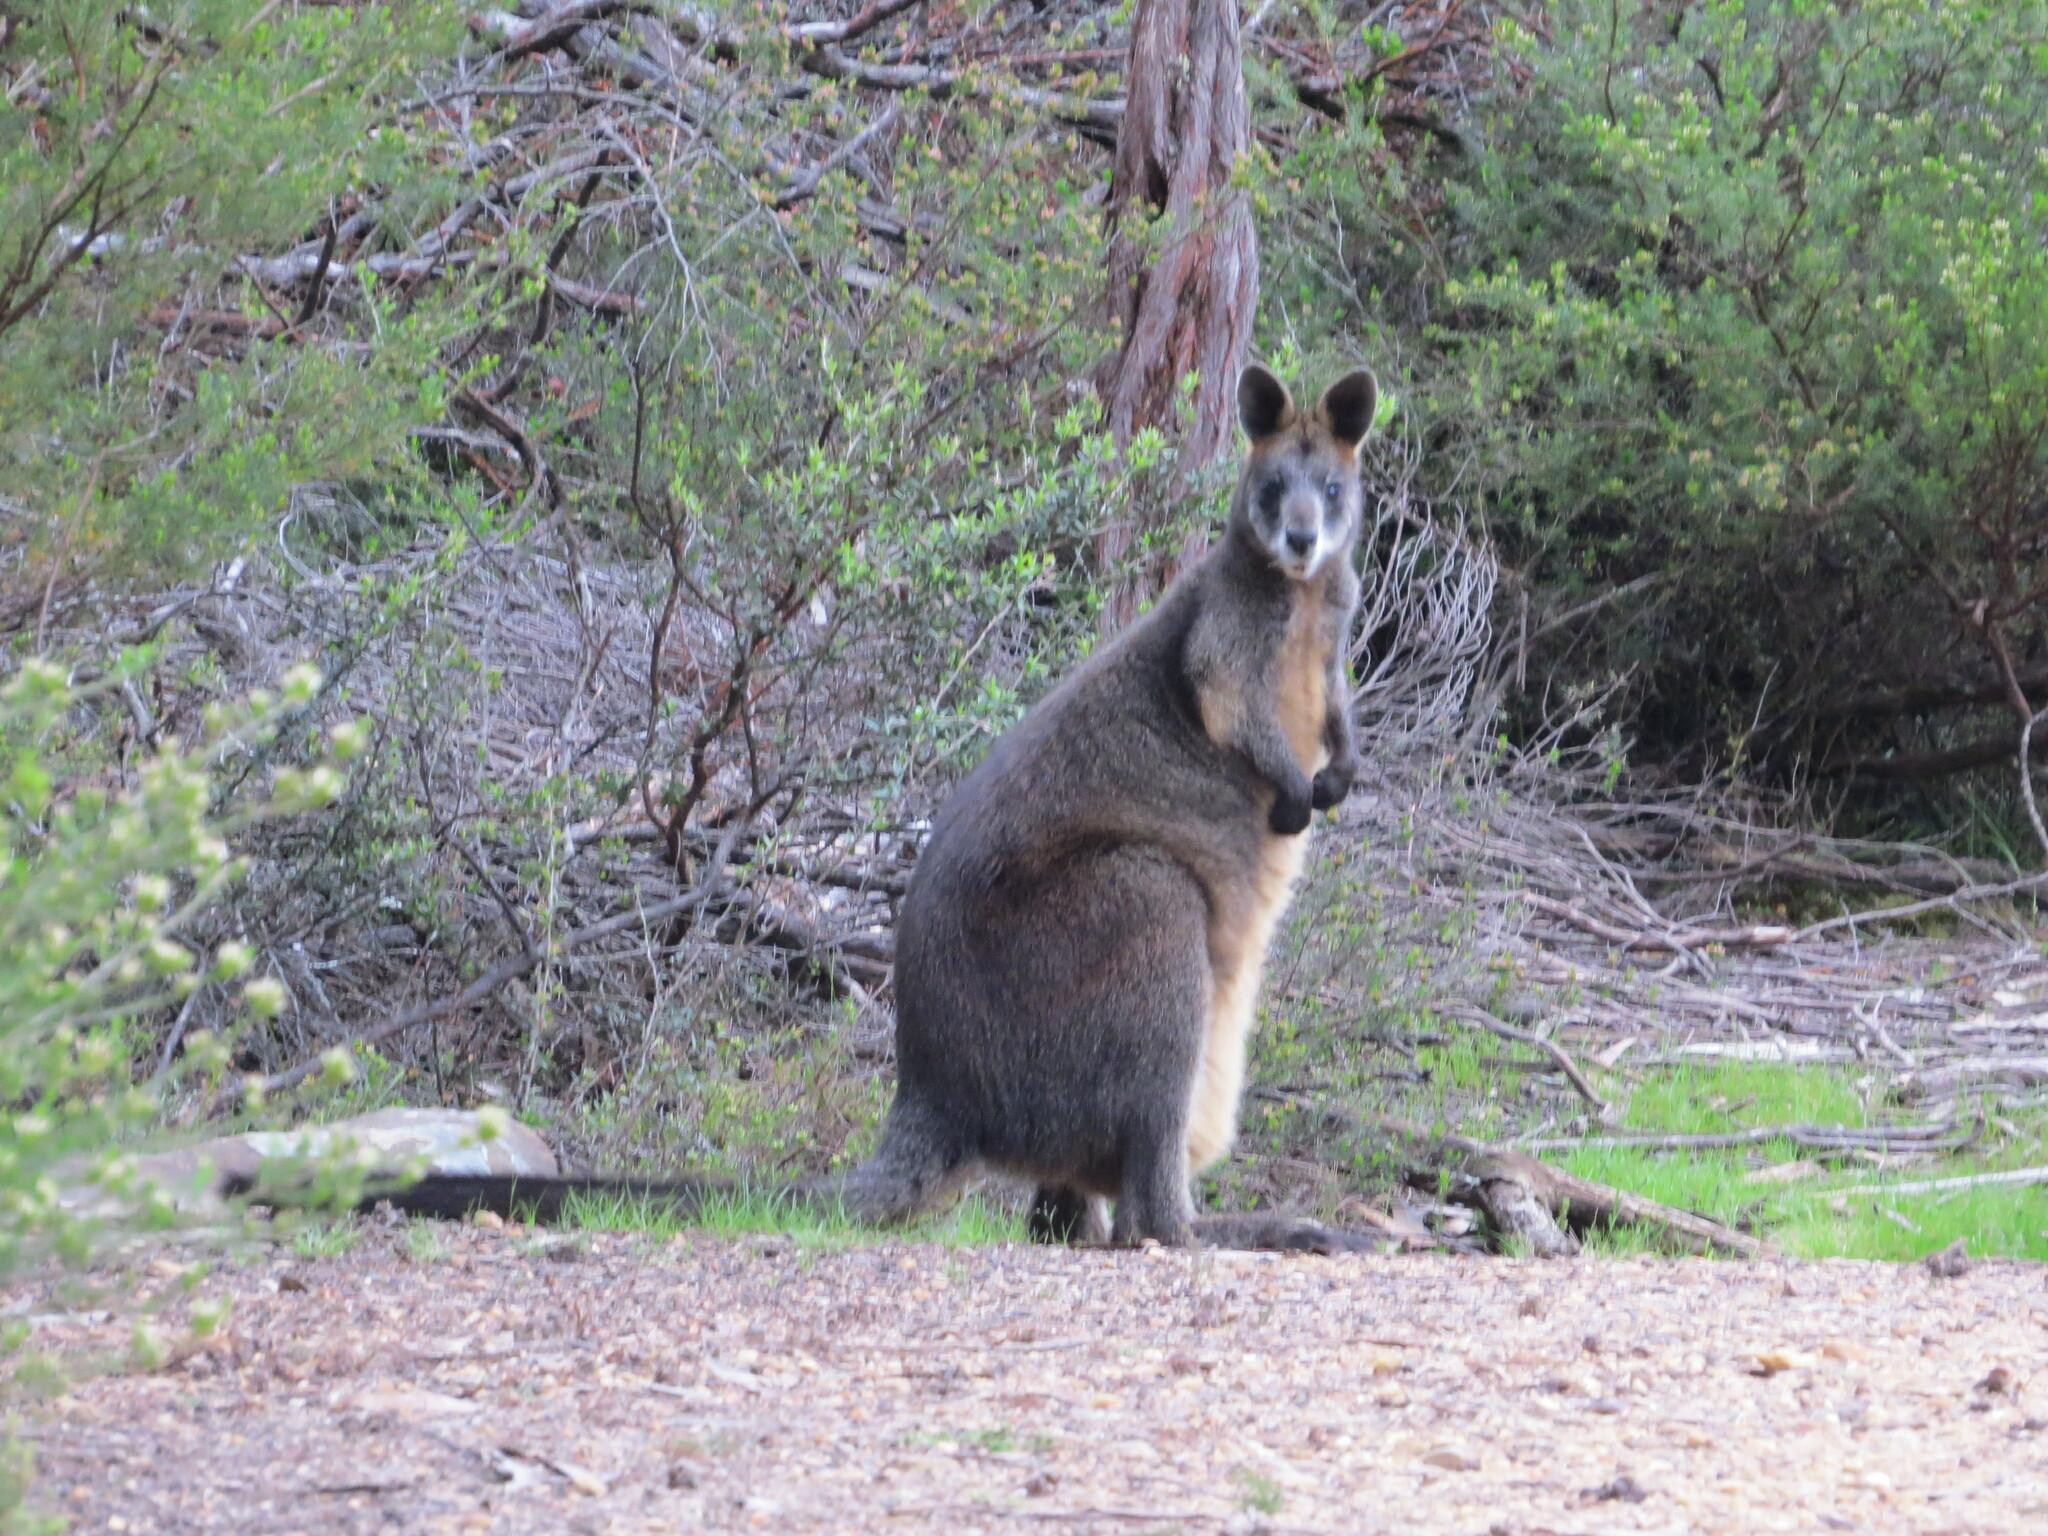Swamp wallaby: (211, 365, 1384, 1260)
